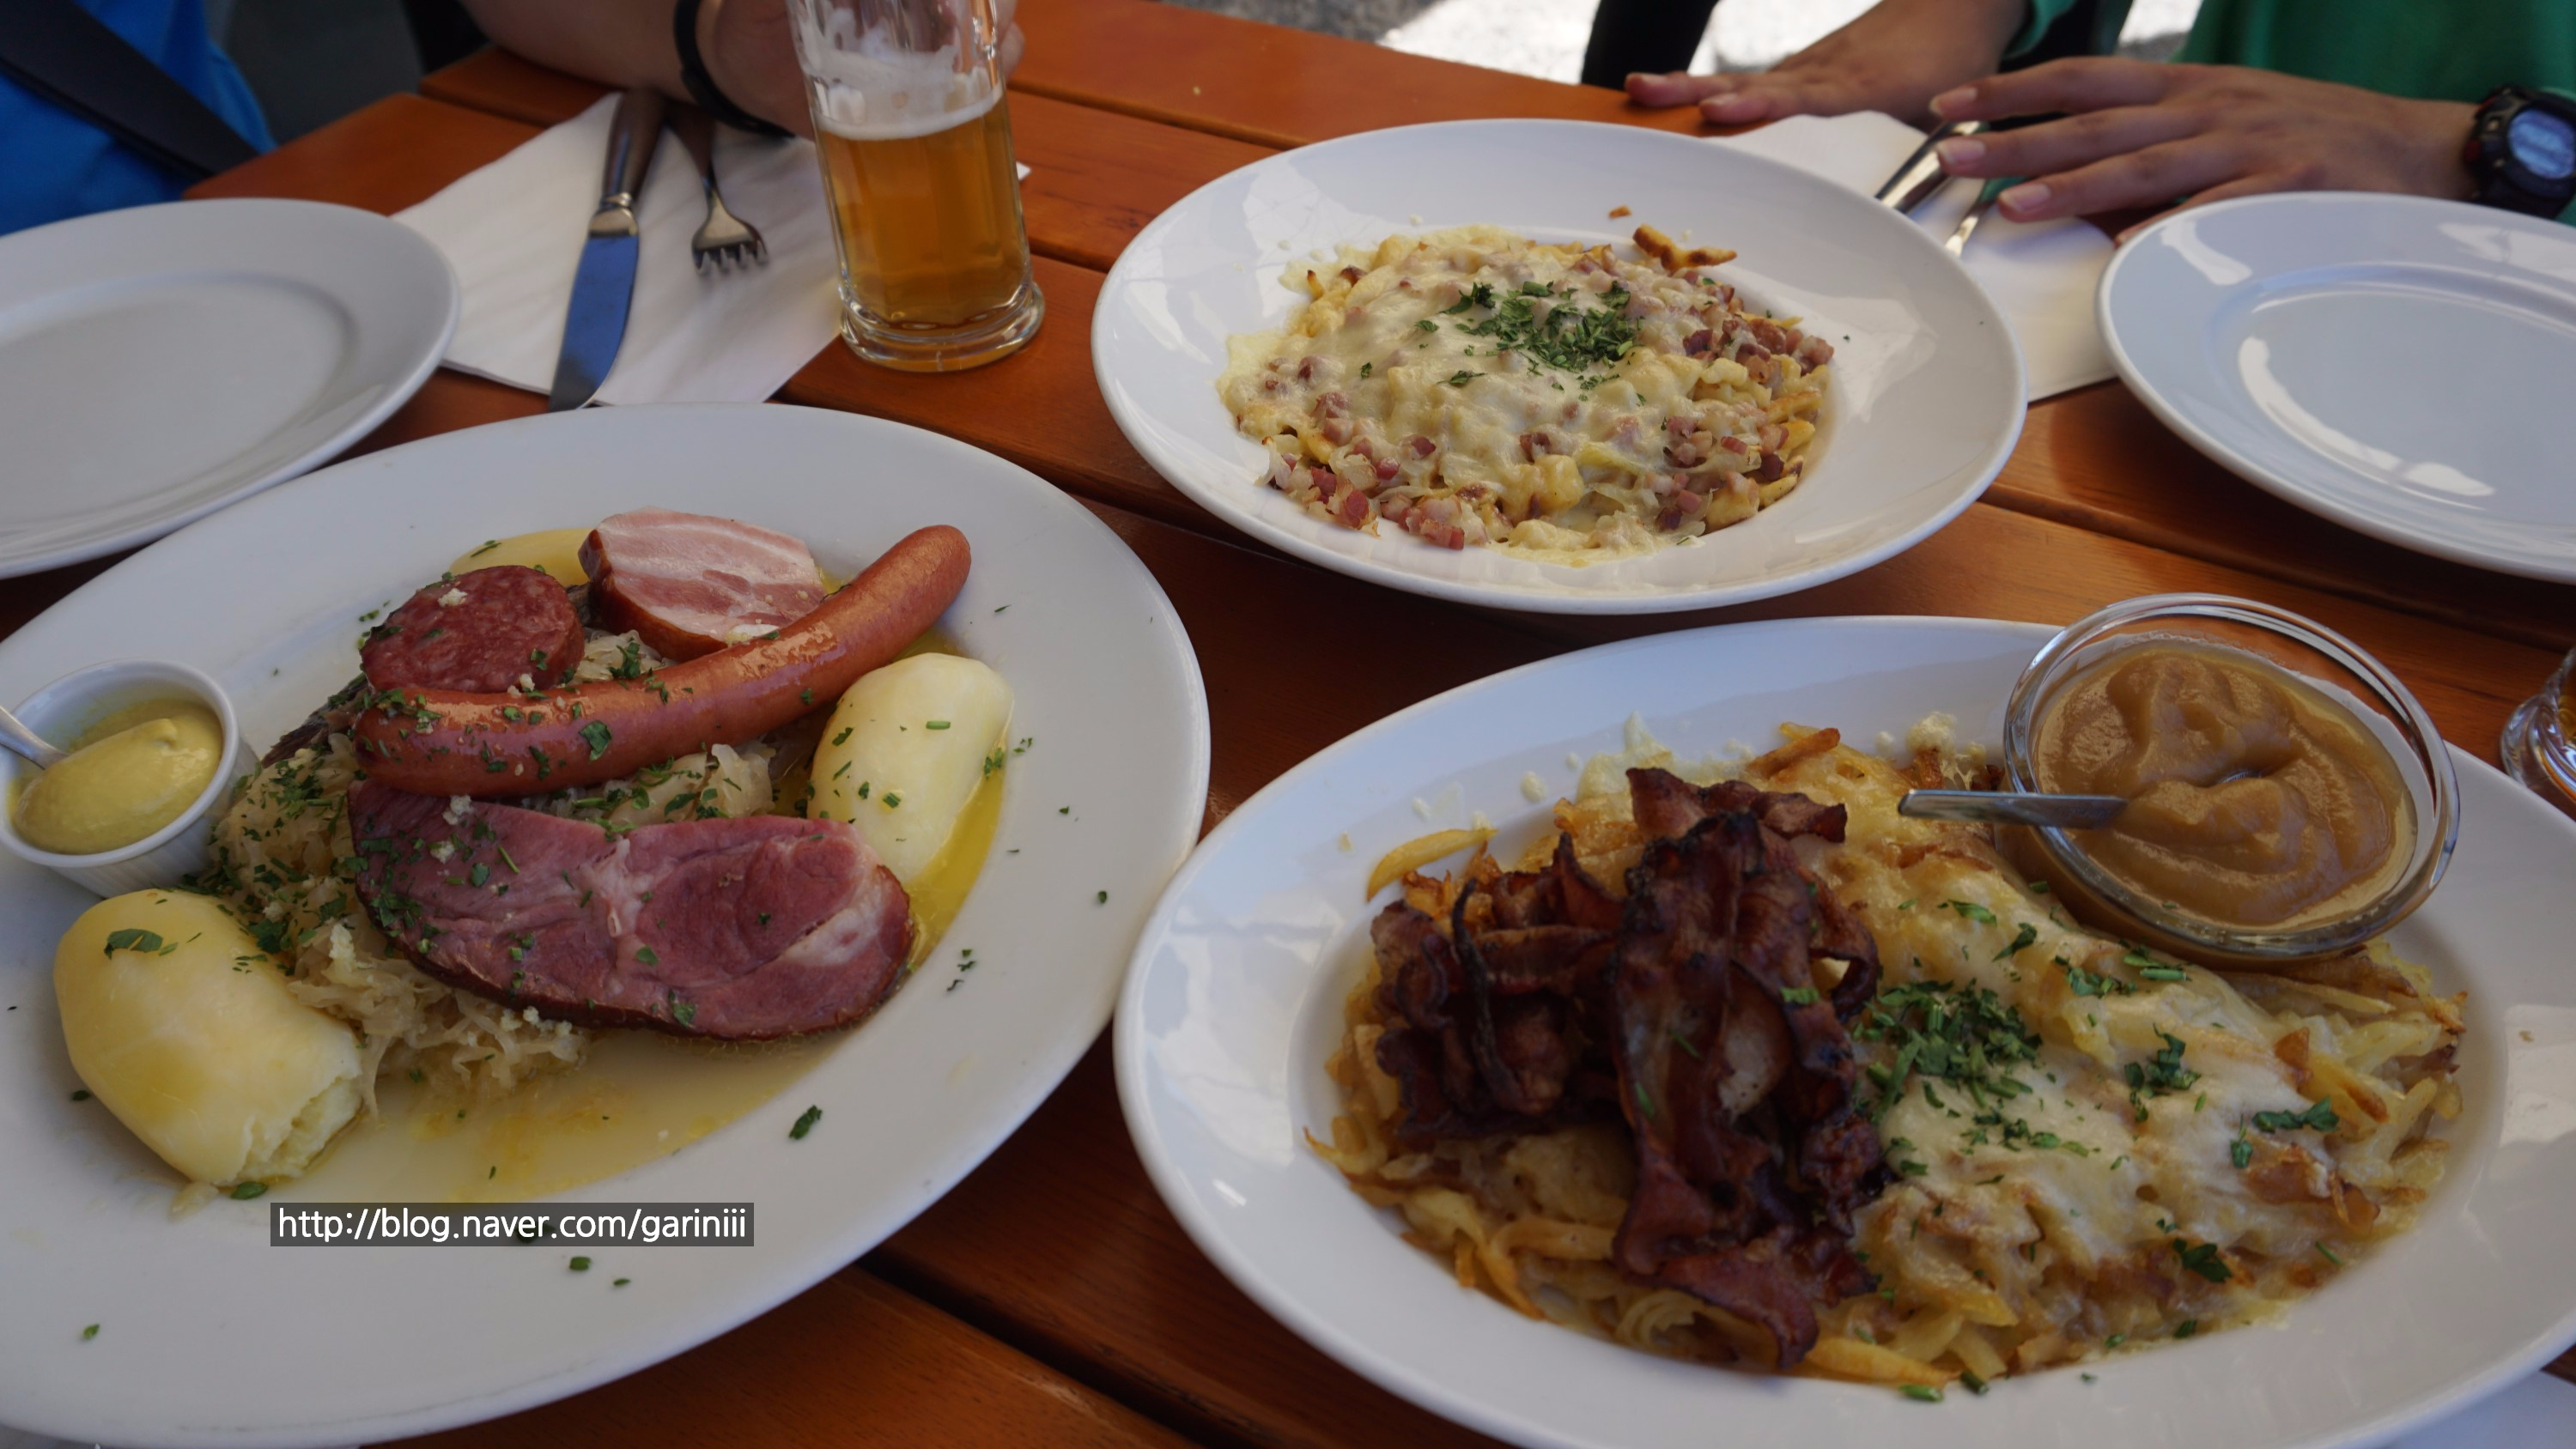boiled potatoes: (46, 908, 336, 1173), (839, 678, 1017, 876)
